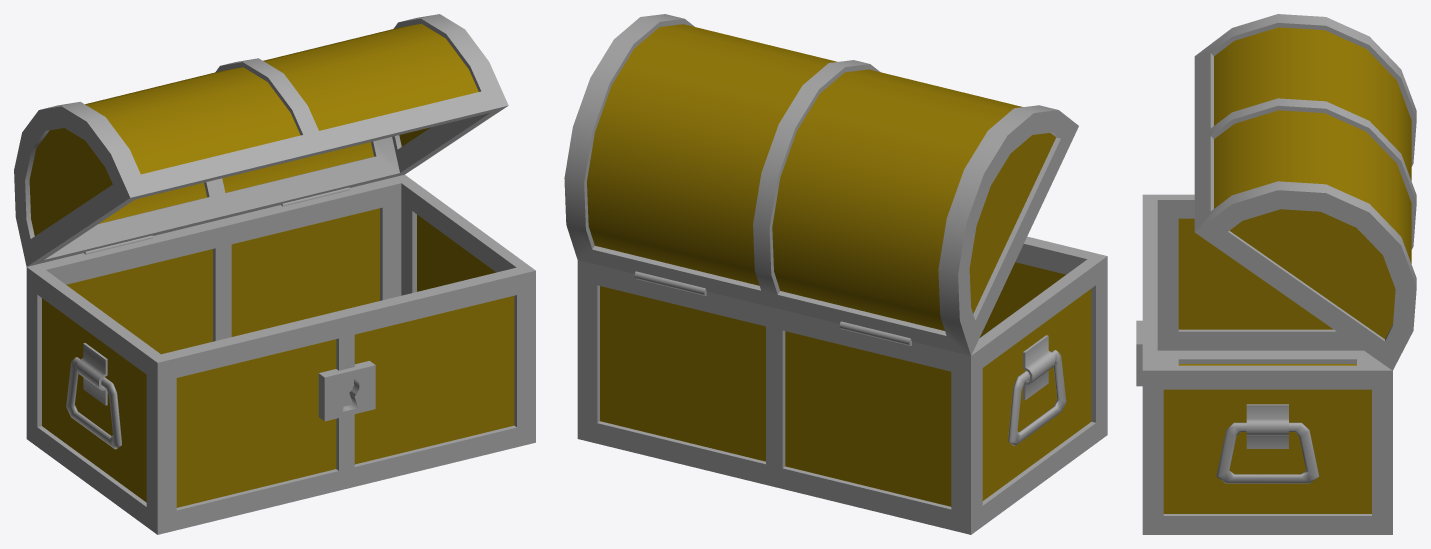
Rendered from Chest.fbx.
3 renders of one model, left to right at view 1: azimuth 30°, elevation 25°; view 2: azimuth 150°, elevation 25°; view 3: azimuth 270°, elevation 25°, orthographic. The views are drawn at different scales.
Parts seen in each view (by area): view 1: Chest_open_flattened; view 2: Chest_open_flattened; view 3: Chest_open_flattened.
Part boxes in pixels (bbox=[...]): Chest_open_flattened: bbox=[14, 14, 535, 534]; Chest_open_flattened: bbox=[564, 14, 1107, 534]; Chest_open_flattened: bbox=[1136, 14, 1416, 534].
Bounding box in the file's own units: 51.14 × 33.66 × 45.64.
